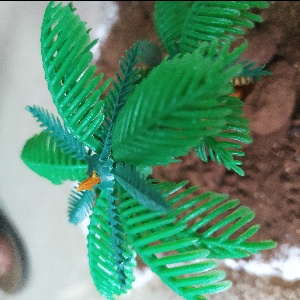plant: (25, 7, 268, 294)
